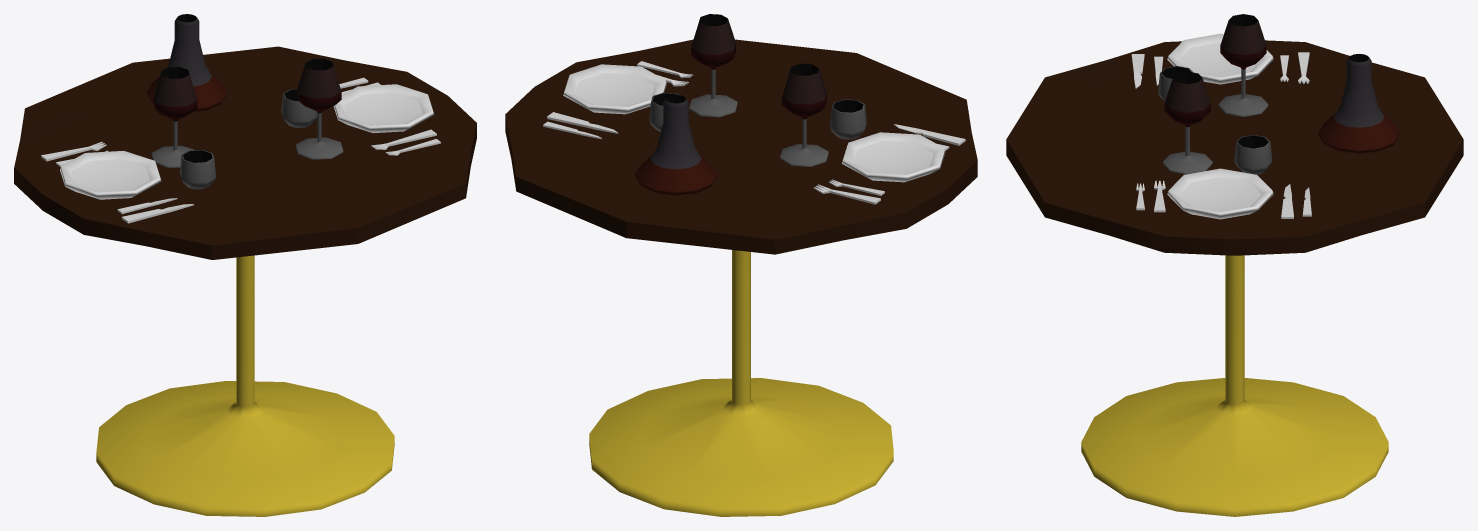
The model's file is TableDecorated.fbx.
3 views of the same model, side by side, from view 1: azimuth 30°, elevation 25°; view 2: azimuth 150°, elevation 25°; view 3: azimuth 270°, elevation 25° (orthographic). The views are drawn at different scales.
Parts seen in each view (by area): view 1: polySurface20, polySurface5, polySurface9, polySurface10, polySurface18, polySurface4, polySurface8, polySurface11; view 2: polySurface20, polySurface18, polySurface5, polySurface9, polySurface10, polySurface4, polySurface8; view 3: polySurface20, polySurface18, polySurface9, polySurface4, polySurface10, polySurface5, polySurface11.
Boxes of the visible parts, x1=… form: polySurface20: x1=14, y1=46, x2=476, y2=516; polySurface5: x1=60, y1=150, x2=161, y2=199; polySurface9: x1=333, y1=84, x2=434, y2=133; polySurface10: x1=296, y1=58, x2=343, y2=159; polySurface18: x1=146, y1=14, x2=227, y2=112; polySurface4: x1=151, y1=67, x2=197, y2=167; polySurface8: x1=180, y1=149, x2=215, y2=189; polySurface11: x1=281, y1=88, x2=317, y2=127; polySurface20: x1=505, y1=39, x2=977, y2=516; polySurface18: x1=635, y1=95, x2=717, y2=195; polySurface5: x1=842, y1=132, x2=945, y2=182; polySurface9: x1=563, y1=64, x2=666, y2=114; polySurface10: x1=689, y1=14, x2=737, y2=117; polySurface4: x1=780, y1=63, x2=828, y2=166; polySurface8: x1=830, y1=99, x2=866, y2=139; polySurface20: x1=1006, y1=40, x2=1463, y2=516; polySurface18: x1=1318, y1=54, x2=1399, y2=153; polySurface9: x1=1167, y1=168, x2=1273, y2=219; polySurface4: x1=1218, y1=14, x2=1268, y2=116; polySurface10: x1=1163, y1=71, x2=1212, y2=174; polySurface5: x1=1167, y1=33, x2=1273, y2=84; polySurface11: x1=1234, y1=134, x2=1272, y2=174.
Bounding box in the file's own units: 3.5 × 3.26 × 3.38.
